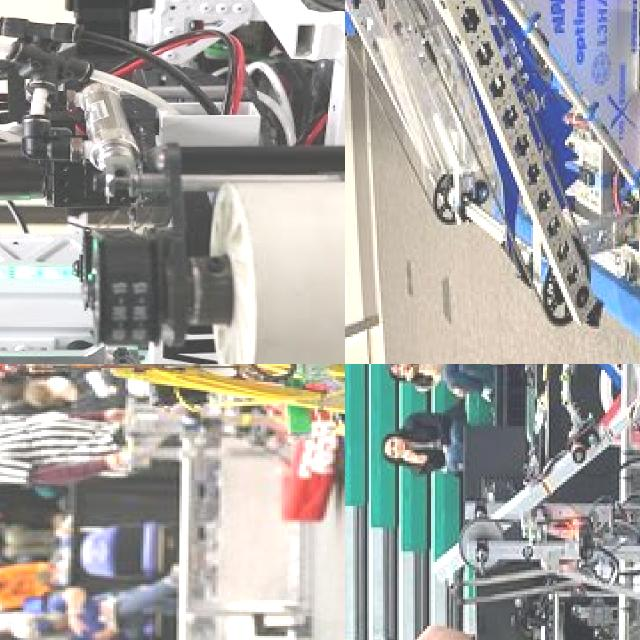FRC-Robots: (345, 0, 640, 364), (0, 0, 345, 250), (432, 364, 640, 640), (98, 400, 330, 560), (0, 364, 345, 471)
